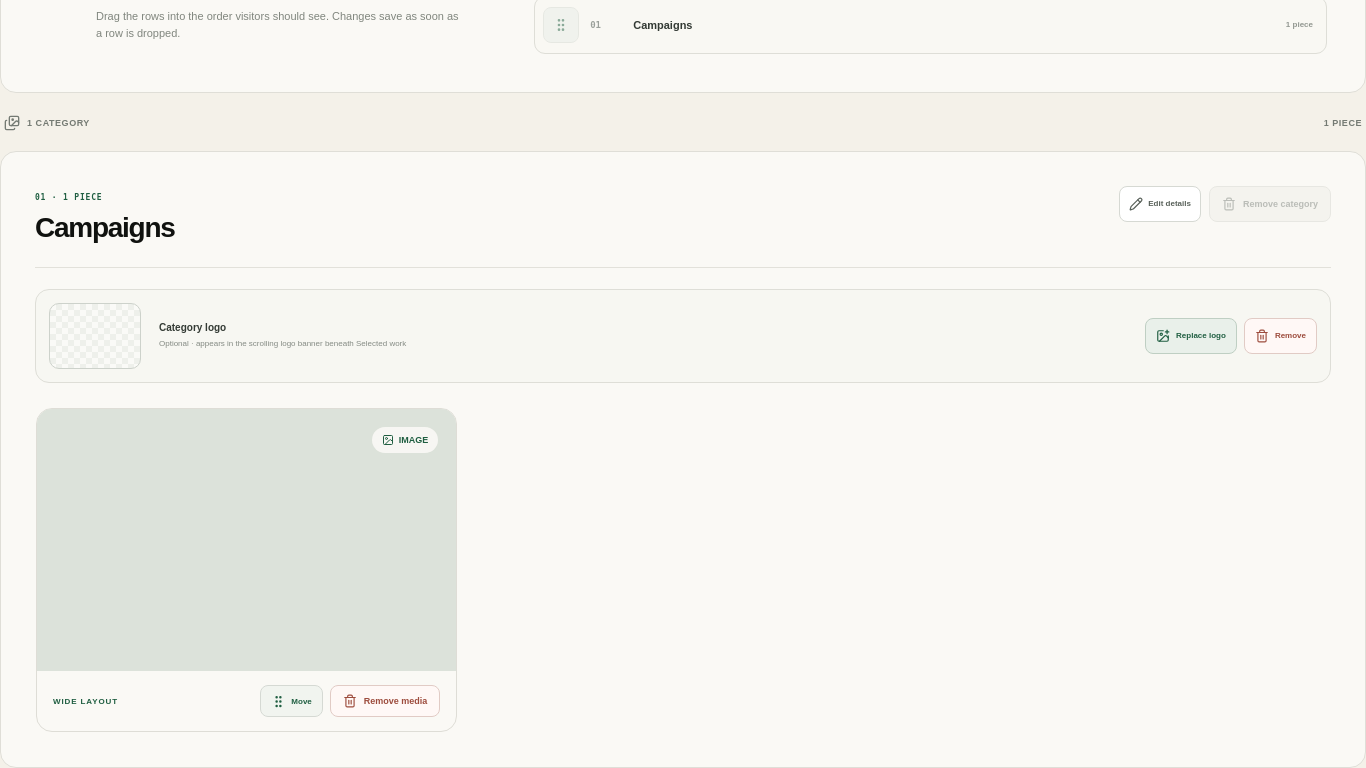
Test: PortfolioManager media removal › requires an explicit, cancellable confirmation before deleting media
(page scrolled)
Click the button "Remove media".
click(385, 701)  # box [330,685,440,717]
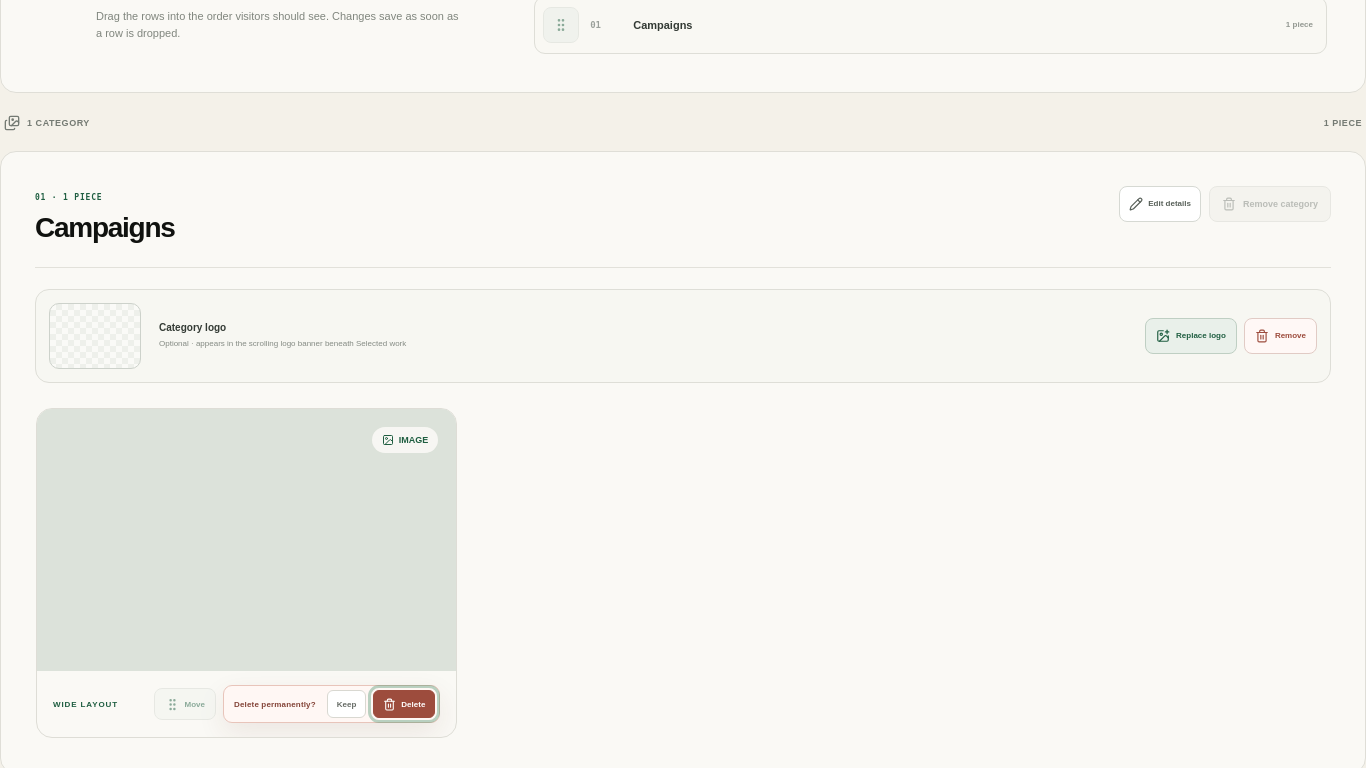
Expected: the text "Delete permanently?" is shown, [234,699,316,708]
Click the button "Keep".
click(347, 704)  # box [327,690,366,718]
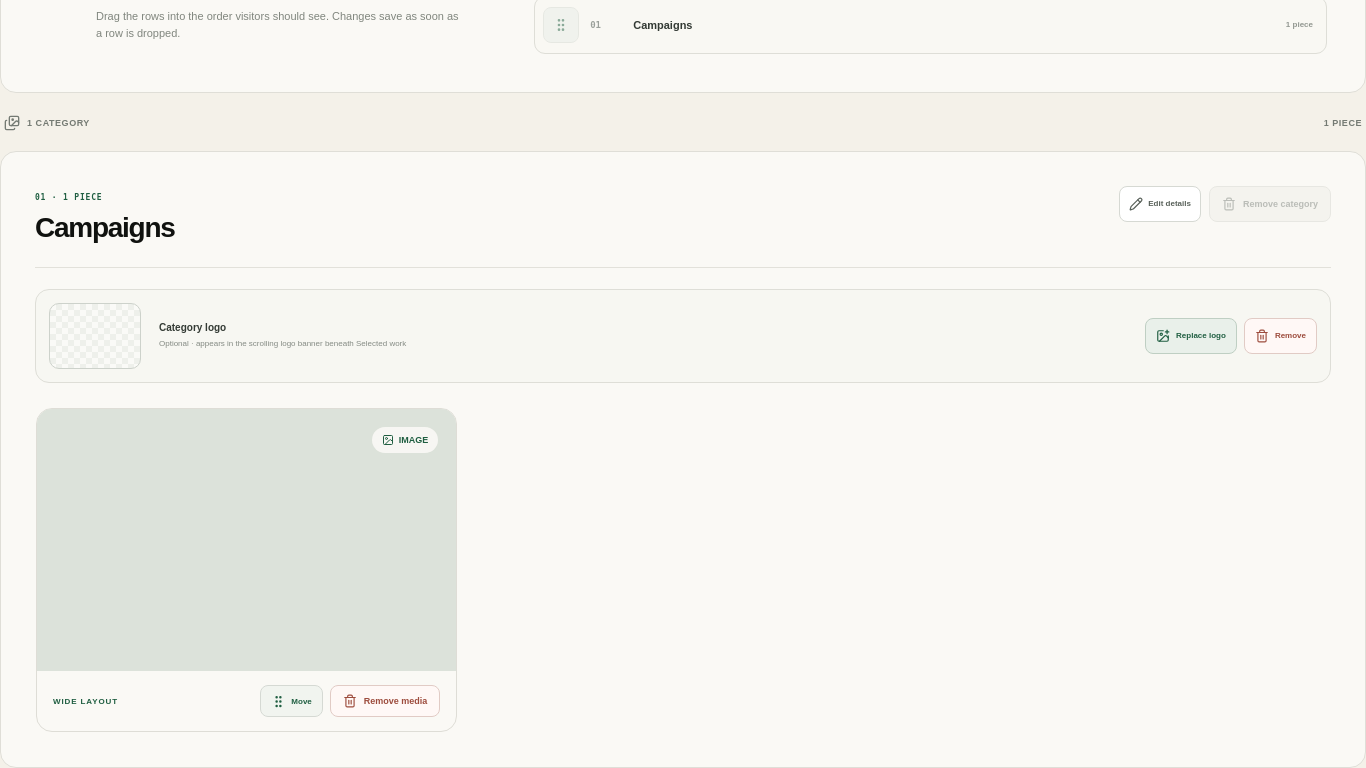
Expected: the text "Delete permanently?" is gone
